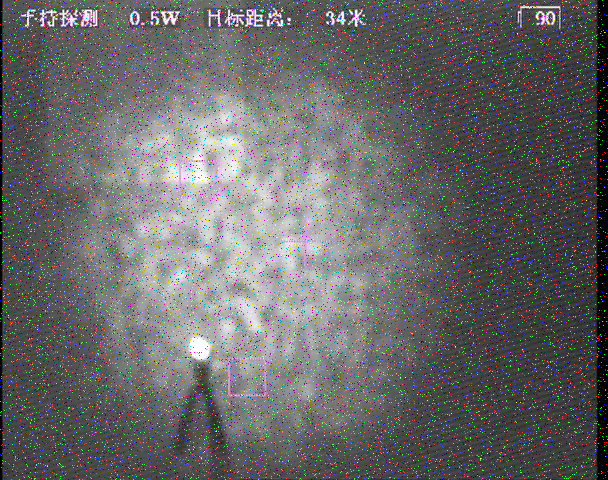my: (187, 337, 212, 362)
